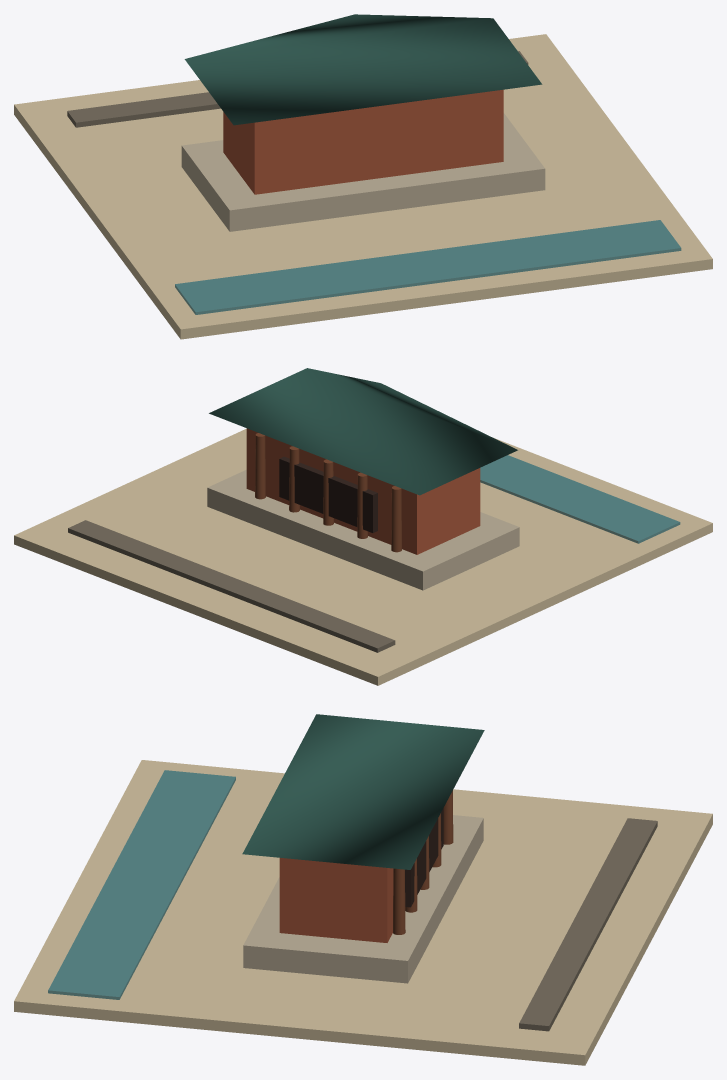
The model's file is model-medium.glb.
3 renders of one model, top to bottom at view 1: azimuth 30°, elevation 25°; view 2: azimuth 150°, elevation 25°; view 3: azimuth 270°, elevation 25°, orthographic. The views are drawn at different scales.
Parts seen in each view (by area): view 1: context_site_plinth, sweeping_tiled_roof, main_hall_wall_volume, context_water_edge, raised_ceremonial_platform, front_scale_strip; view 2: context_site_plinth, sweeping_tiled_roof, raised_ceremonial_platform, main_hall_wall_volume, context_water_edge, front_scale_strip, central_shadow_door, front_column_5, front_column_1, front_column_3, front_column_2, front_column_4; view 3: context_site_plinth, sweeping_tiled_roof, context_water_edge, raised_ceremonial_platform, main_hall_wall_volume, front_scale_strip, central_shadow_door, front_column_5.
Boxes of the visible parts, x1=… form: context_site_plinth: x1=14, y1=34, x2=712, y2=339; sweeping_tiled_roof: x1=184, y1=14, x2=542, y2=125; main_hall_wall_volume: x1=223, y1=89, x2=503, y2=194; context_water_edge: x1=175, y1=220, x2=681, y2=314; raised_ceremonial_platform: x1=181, y1=113, x2=545, y2=231; front_scale_strip: x1=67, y1=51, x2=528, y2=127; context_site_plinth: x1=14, y1=428, x2=712, y2=685; sweeping_tiled_roof: x1=209, y1=368, x2=517, y2=495; raised_ceremonial_platform: x1=207, y1=469, x2=519, y2=590; main_hall_wall_volume: x1=246, y1=428, x2=480, y2=554; context_water_edge: x1=480, y1=455, x2=680, y2=543; front_scale_strip: x1=68, y1=520, x2=395, y2=652; central_shadow_door: x1=279, y1=456, x2=377, y2=532; front_column_5: x1=255, y1=433, x2=265, y2=499; front_column_1: x1=391, y1=486, x2=401, y2=552; front_column_3: x1=323, y1=459, x2=333, y2=525; front_column_2: x1=357, y1=472, x2=367, y2=538; front_column_4: x1=289, y1=446, x2=299, y2=512; context_site_plinth: x1=14, y1=760, x2=712, y2=1065; sweeping_tiled_roof: x1=242, y1=714, x2=484, y2=869; context_water_edge: x1=48, y1=770, x2=235, y2=999; raised_ceremonial_platform: x1=243, y1=815, x2=483, y2=983; main_hall_wall_volume: x1=279, y1=858, x2=393, y2=942; front_scale_strip: x1=519, y1=818, x2=657, y2=1031; central_shadow_door: x1=405, y1=808, x2=443, y2=907; front_column_5: x1=393, y1=868, x2=405, y2=934.
Bounding box in the file's own units: 9.55 × 2.62 × 9.55.
